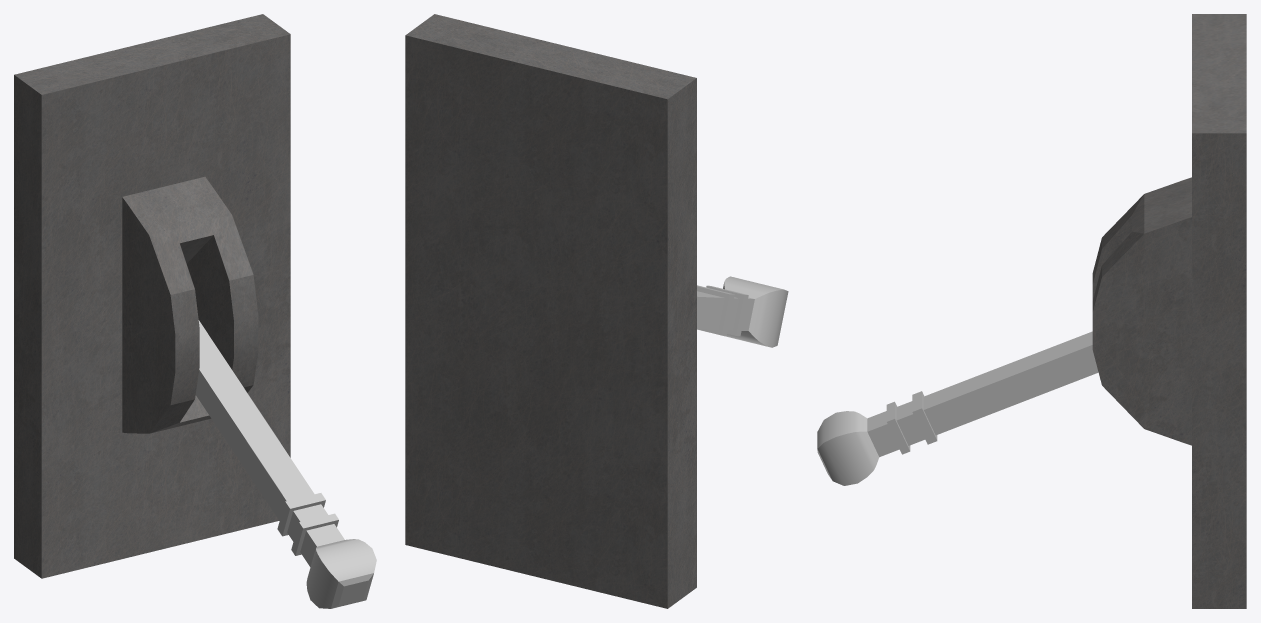
Rendered from SchalterHebelNew.fbx.
3 views of the same model, side by side, from view 1: azimuth 30°, elevation 25°; view 2: azimuth 150°, elevation 25°; view 3: azimuth 270°, elevation 25° (orthographic). The views are drawn at different scales.
Parts seen in each view (by area): view 1: Schalter, Hebel; view 2: Schalter, Hebel; view 3: Schalter, Hebel.
Part boxes in pixels (x1,y1,x2,y2): Schalter: [14, 14, 290, 578]; Hebel: [195, 320, 376, 608]; Schalter: [405, 14, 696, 608]; Hebel: [697, 276, 788, 347]; Schalter: [1092, 14, 1246, 608]; Hebel: [817, 331, 1098, 485].
Bounding box in the file's own units: 0.4066 × 0.7549 × 0.6173.
